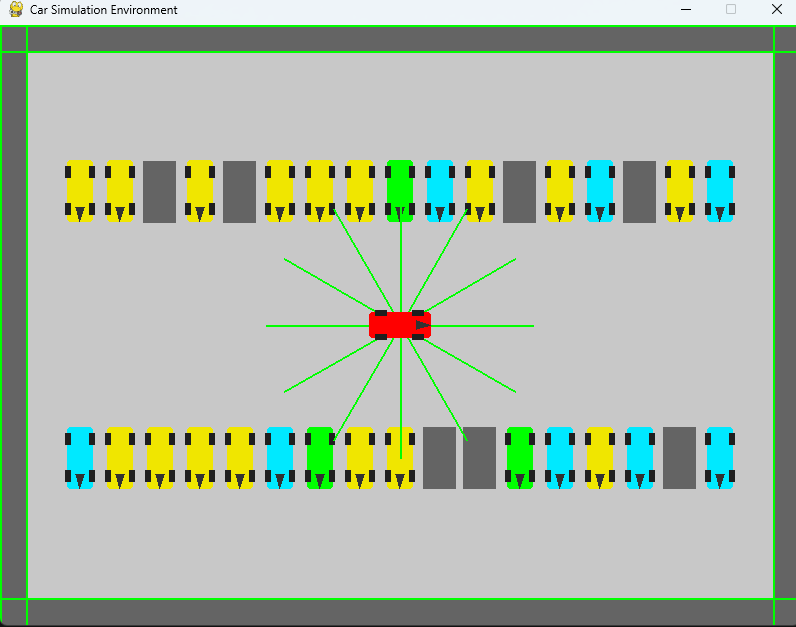ControlledCar: (361, 304, 434, 349)
ParkedCar: (56, 153, 98, 226), (700, 154, 738, 229), (540, 150, 577, 225), (582, 426, 621, 497), (581, 151, 617, 227), (460, 151, 497, 224), (702, 423, 740, 494), (658, 156, 697, 225), (59, 424, 99, 490), (419, 154, 456, 225), (342, 153, 377, 226), (380, 156, 416, 226), (261, 421, 296, 493), (340, 425, 377, 491), (380, 422, 415, 491), (303, 155, 337, 226), (101, 156, 136, 224), (182, 155, 216, 225), (502, 422, 537, 490), (143, 424, 177, 493), (263, 155, 296, 226), (102, 425, 137, 491), (182, 421, 215, 491), (540, 428, 575, 493), (302, 425, 335, 493), (220, 427, 255, 491), (624, 426, 658, 491)
ParkingSpot: (417, 420, 461, 498), (661, 420, 702, 495), (219, 157, 260, 226), (461, 421, 497, 499), (620, 157, 659, 228), (141, 157, 180, 226), (499, 157, 538, 226)
